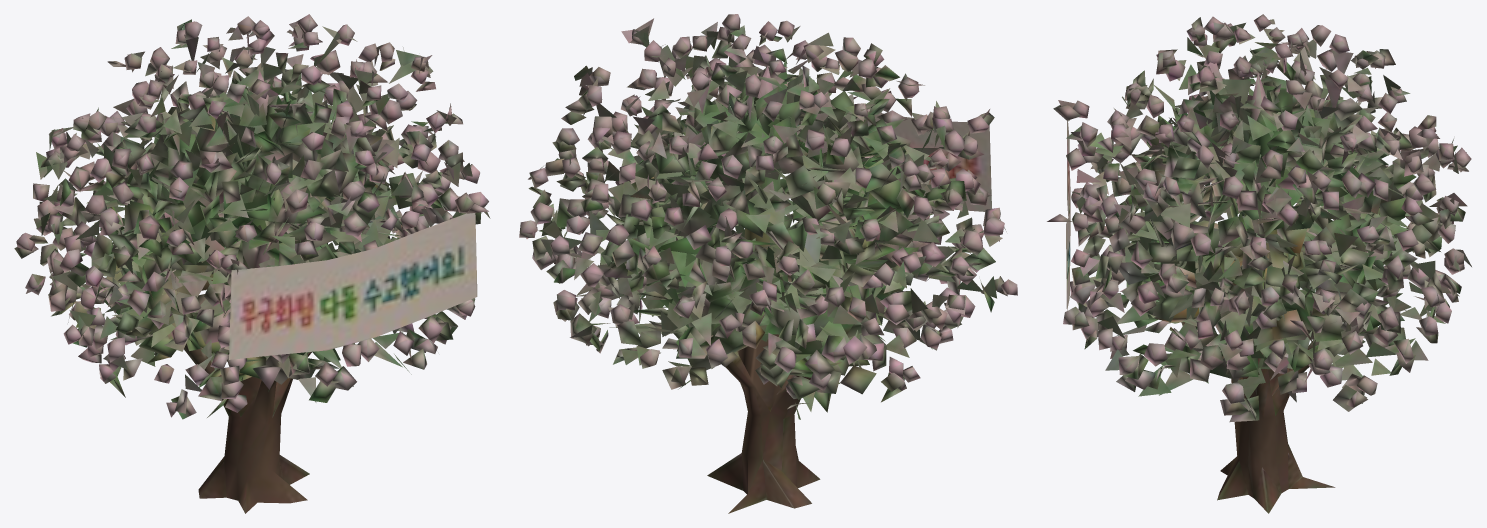
Rendered from mugunghwa_tree.glb.
3 views of the same model, side by side, from view 1: azimuth 30°, elevation 25°; view 2: azimuth 150°, elevation 25°; view 3: azimuth 270°, elevation 25° (orthographic).
Visible parts, largest first — view 1: mesh_node; view 2: mesh_node; view 3: mesh_node.
Boxes of the visible parts, x1,y1,x2,y2 form: mesh_node: [14, 14, 490, 513]; mesh_node: [519, 14, 1017, 513]; mesh_node: [1047, 14, 1471, 513].
Bounding box in the file's own units: 0.9922 × 1 × 0.8496.
Materials: 1 (1 with a texture image).
